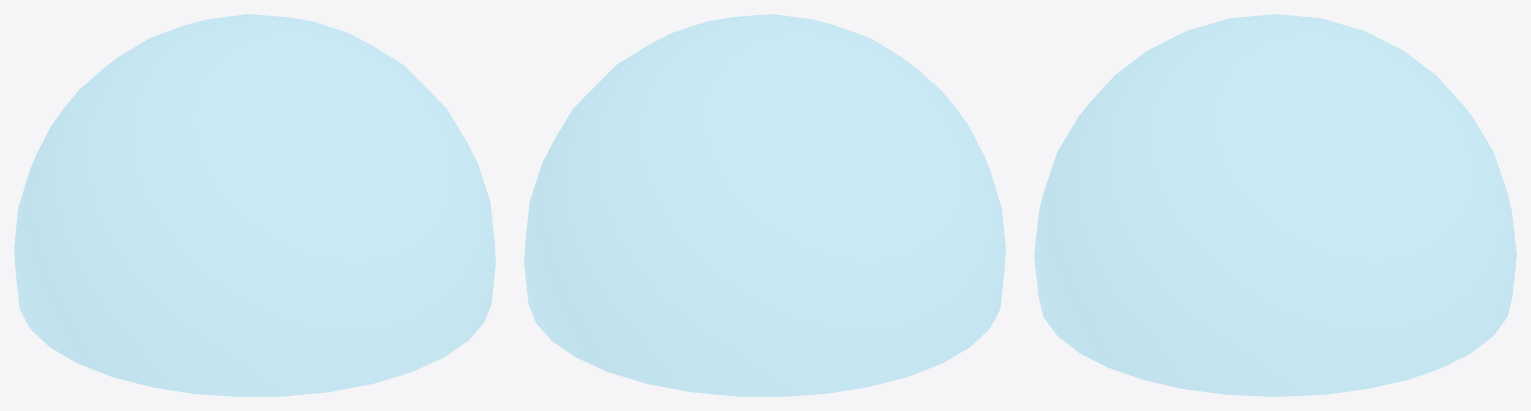
File: ENV_ApeEscapeOffice.glb
The picture shows the model from 3 angles, left to right: view 1: azimuth 30°, elevation 25°; view 2: azimuth 150°, elevation 25°; view 3: azimuth 270°, elevation 25°; orthographic projection.
Parts seen in each view (by area): view 1: Skydome; view 2: Skydome; view 3: Skydome.
Boxes of the visible parts, x1,y1,x2,y2 form: Skydome: (14,14,495,396); Skydome: (524,14,1005,396); Skydome: (1034,14,1516,396).
Bounding box in the file's own units: 451 × 269 × 451.
